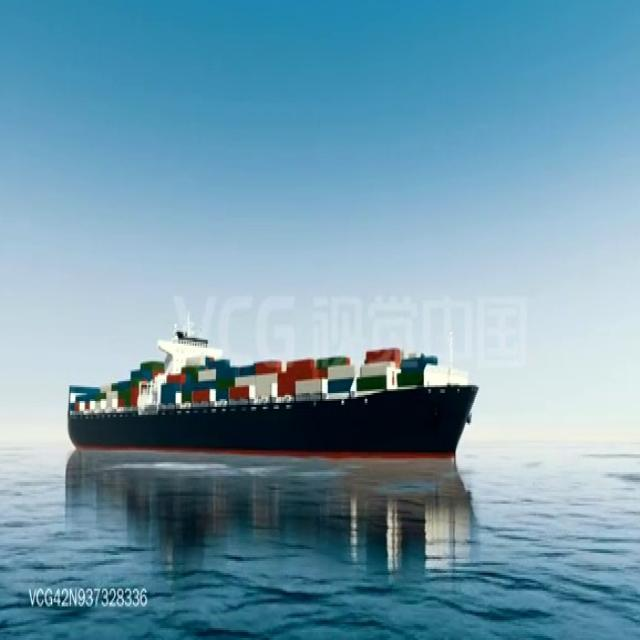cargoship: (62, 315, 480, 464)
